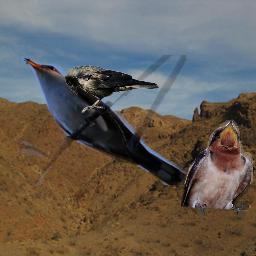Crow: (65, 65, 160, 113)
Cuckoo: (20, 55, 186, 185)
Swallow: (181, 120, 253, 215)
